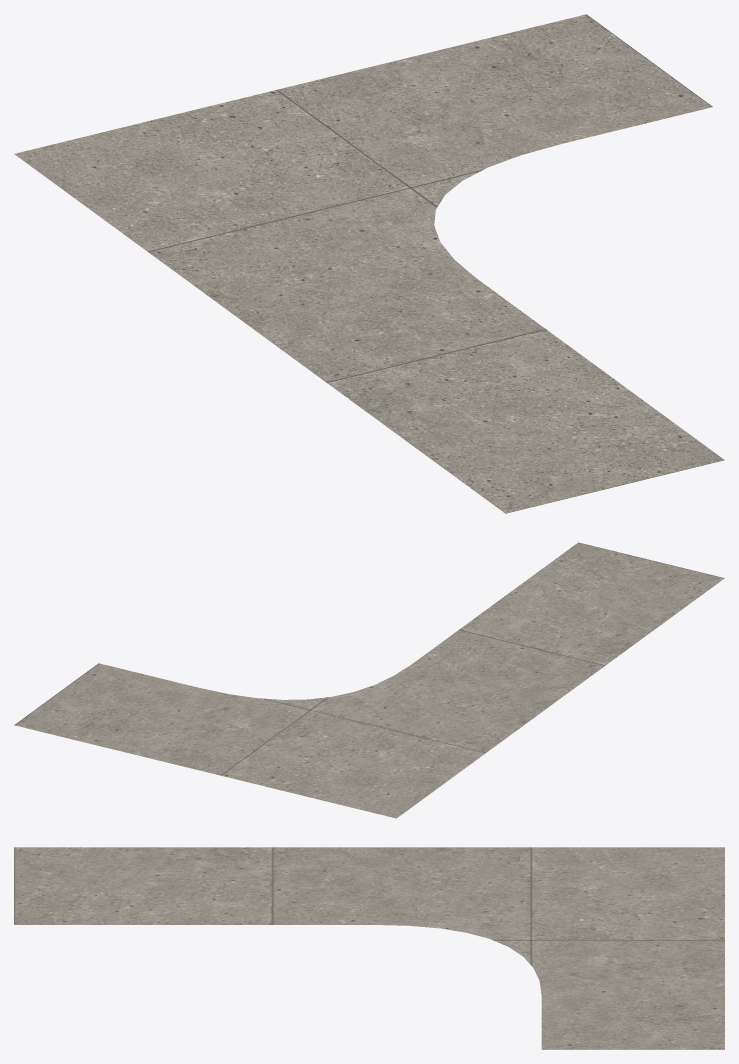
Rendered from SM_PAVING_0_3_Standard.fbx.
3 views of the same model, one above another, from view 1: azimuth 30°, elevation 25°; view 2: azimuth 150°, elevation 25°; view 3: azimuth 270°, elevation 25° (orthographic). The views are drawn at different scales.
Parts seen in each view (by area): view 1: SM_Update_PAVING_0_3_Standard_v001; view 2: SM_Update_PAVING_0_3_Standard_v001; view 3: SM_Update_PAVING_0_3_Standard_v001.
Boxes of the visible parts, left/top/right/bottom form: SM_Update_PAVING_0_3_Standard_v001: left=14, top=14, right=724, bottom=513; SM_Update_PAVING_0_3_Standard_v001: left=14, top=542, right=724, bottom=818; SM_Update_PAVING_0_3_Standard_v001: left=14, top=847, right=724, bottom=1049.
Bounding box in the file's own units: 1.85 × 0 × 2.75.
1 material, 1 textured.
